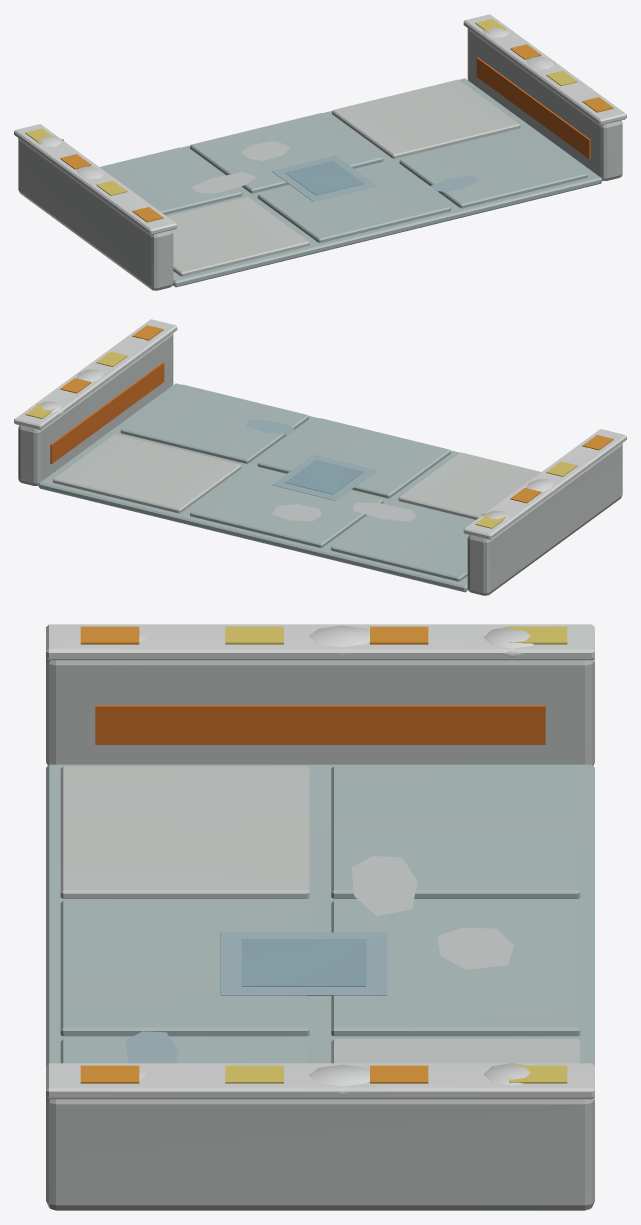
Rendered from runner_day_deck_kerb_v1.glb.
3 renders of one model, top to bottom at view 1: azimuth 30°, elevation 25°; view 2: azimuth 150°, elevation 25°; view 3: azimuth 270°, elevation 25°, orthographic. The views are drawn at different scales.
Parts seen in each view (by area): view 1: runner_day_deck_kerb_v1; view 2: runner_day_deck_kerb_v1; view 3: runner_day_deck_kerb_v1.
Part boxes in pixels (x1,y1,x2,y2): runner_day_deck_kerb_v1: (14,14,626,290); runner_day_deck_kerb_v1: (14,319,626,595); runner_day_deck_kerb_v1: (46,624,594,1210).
Bounding box in the file's own units: 12.11 × 1.59 × 6.
